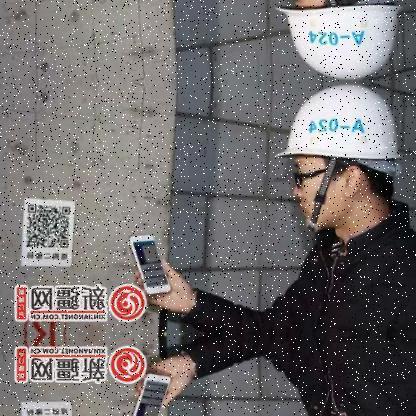helmet: (271, 80, 412, 243), (271, 0, 413, 81)
